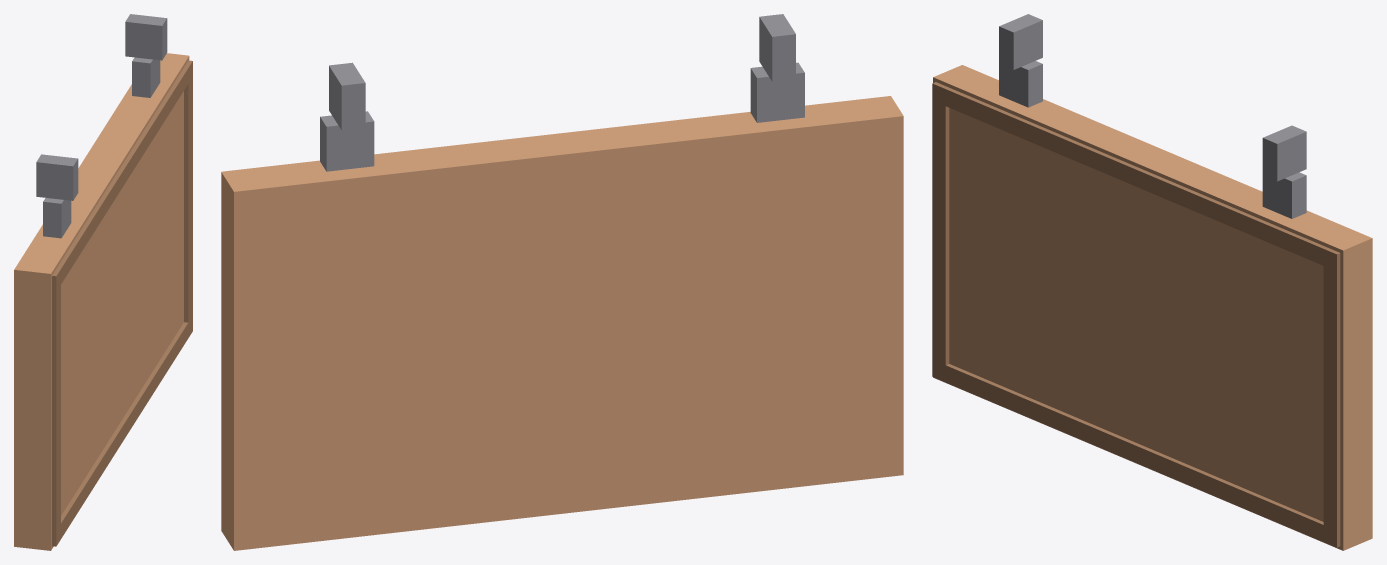
Rendered from sign_acacia_hang_diag.gltf.
3 views of the same model, side by side, from view 1: azimuth 30°, elevation 25°; view 2: azimuth 150°, elevation 25°; view 3: azimuth 270°, elevation 25° (orthographic). The views are drawn at different scales.
Visible parts, largest first — view 1: sign_acacia_hang_diag; view 2: sign_acacia_hang_diag; view 3: sign_acacia_hang_diag.
Boxes of the visible parts, box(x1,y1,x2,y2) form: sign_acacia_hang_diag: box(14, 14, 192, 550); sign_acacia_hang_diag: box(221, 14, 903, 550); sign_acacia_hang_diag: box(932, 14, 1372, 550).
Size of the model in its own units: 0.664 by 0.631 by 0.664.
